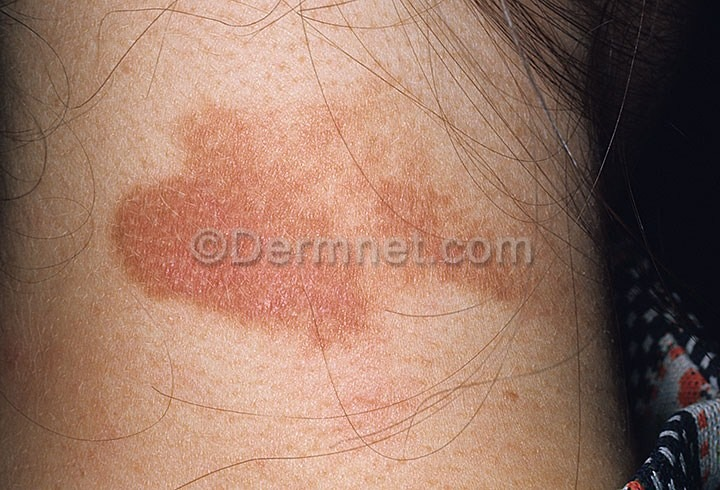Melasma: (163, 102, 464, 233), (158, 270, 406, 354), (86, 185, 190, 306)
